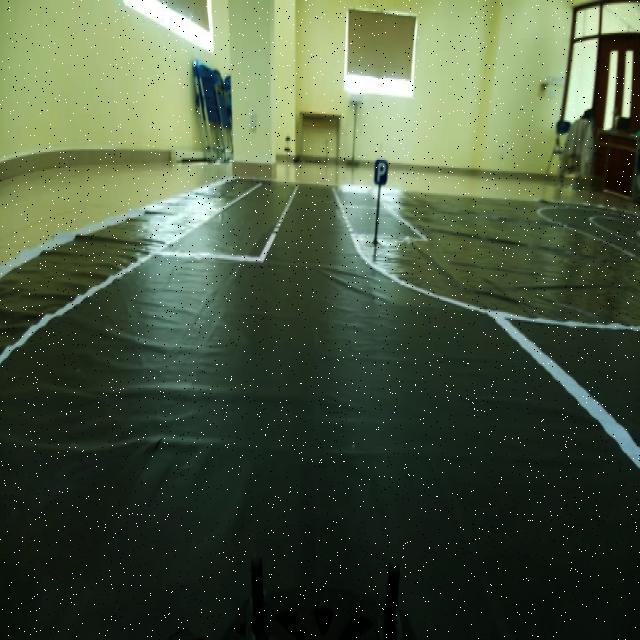parking: (369, 149, 387, 201)
